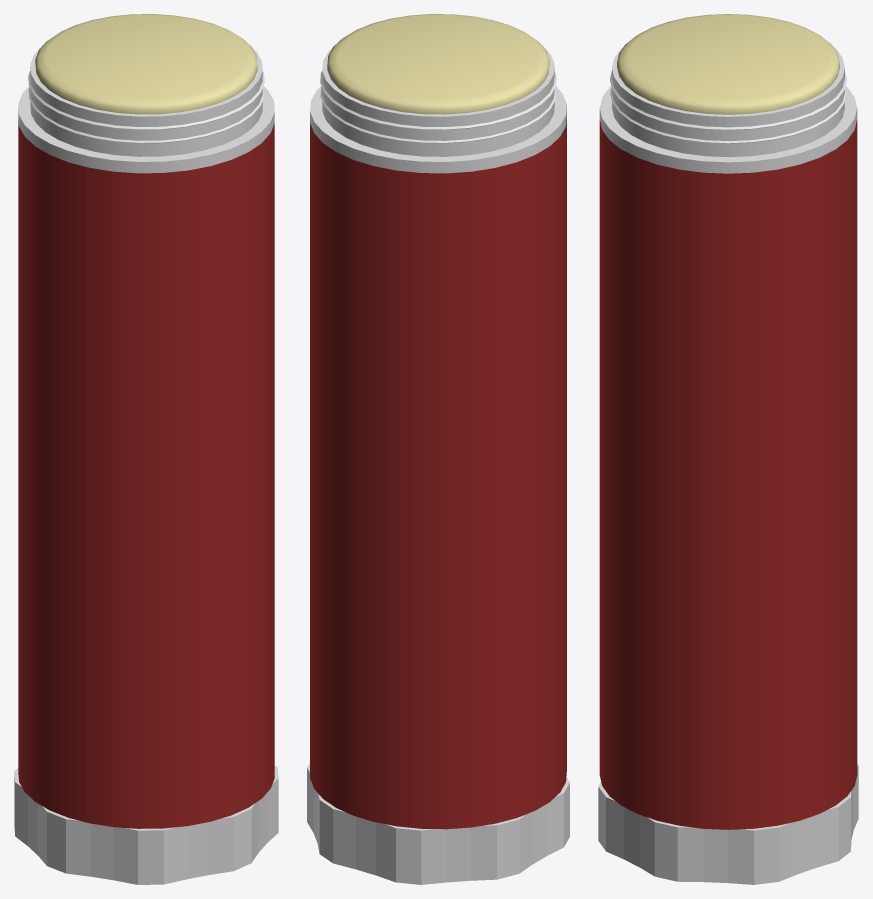
File: chapStick.fbx
3 views of the same model, side by side, from view 1: azimuth 30°, elevation 25°; view 2: azimuth 150°, elevation 25°; view 3: azimuth 270°, elevation 25° (orthographic).
Parts seen in each view (by area): view 1: Chap Stick; view 2: Chap Stick; view 3: Chap Stick.
Part boxes in pixels (box(x1,y1,x2,y2)): Chap Stick: box(14, 14, 278, 884); Chap Stick: box(307, 14, 569, 884); Chap Stick: box(598, 14, 858, 884).
Size of the model in its own units: 18.58 by 60.89 by 18.58.
